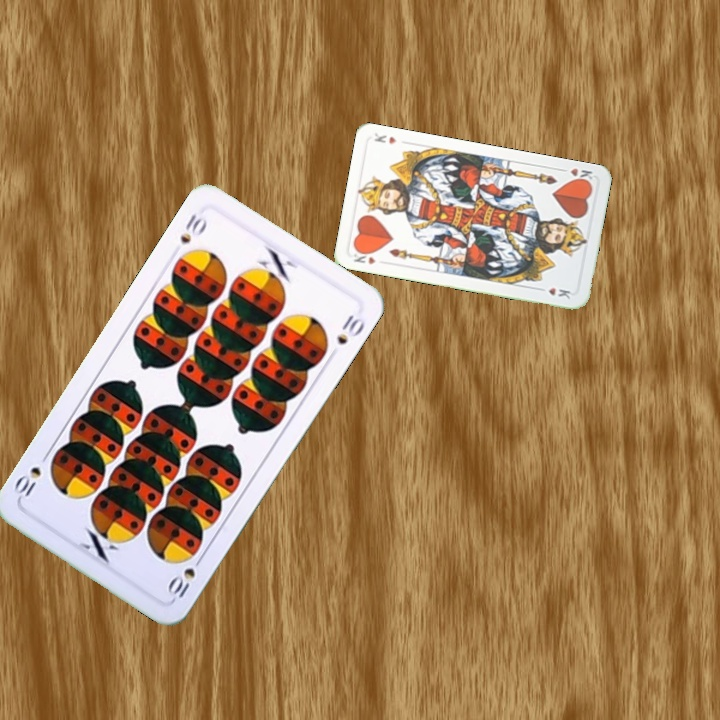HK: (566, 164, 595, 186), (350, 246, 378, 267)
S10: (164, 551, 207, 603), (175, 209, 210, 247)
